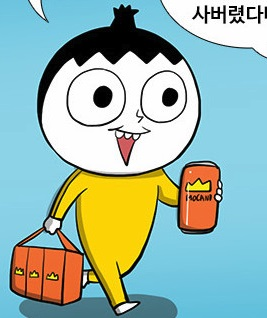can: (174, 157, 223, 239)
